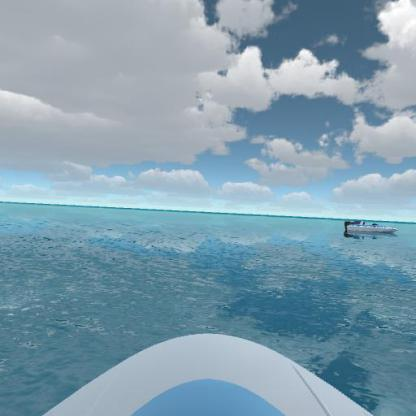usv1: (343, 216, 399, 242)
